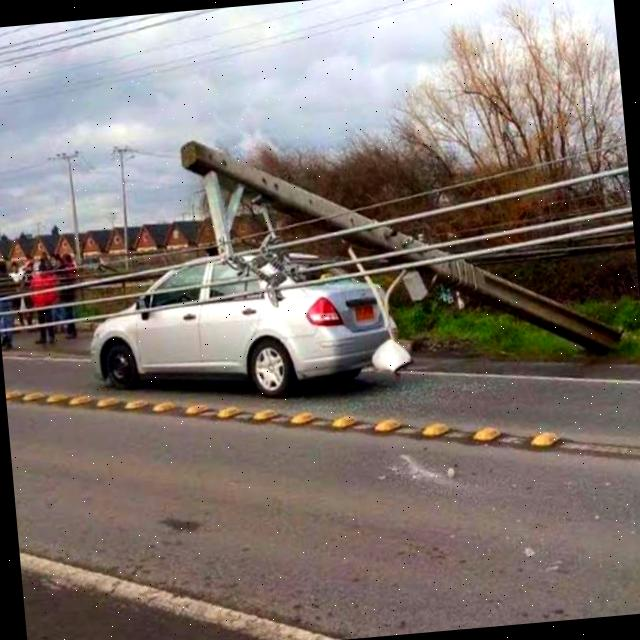Broken Pole: (178, 101, 640, 392)
